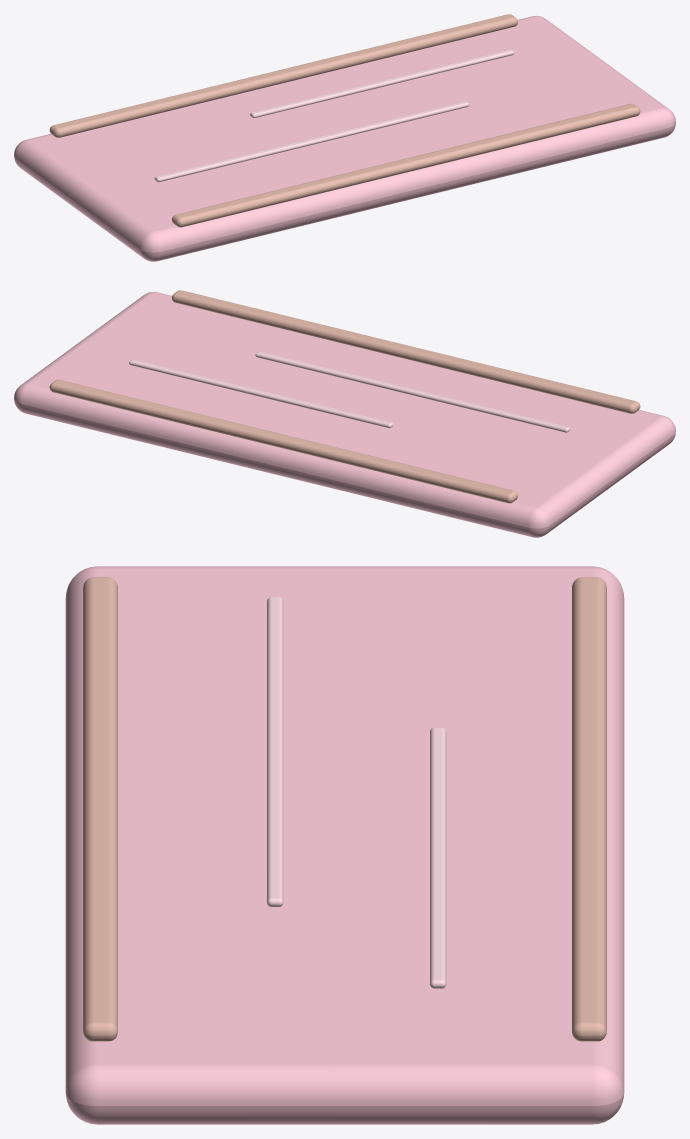
Rendered from 目标图柔粉椭圆地毯.fbx.
3 renders of one model, top to bottom at view 1: azimuth 30°, elevation 25°; view 2: azimuth 150°, elevation 25°; view 3: azimuth 270°, elevation 25°, orthographic. The views are drawn at different scales.
Parts seen in each view (by area): view 1: 目标图柔粉椭圆地毯_低矮圆角主体, 目标图柔粉椭圆地毯_暖粉薄包边前, 目标图柔粉椭圆地毯_暖粉薄包边后, 目标图柔粉椭圆地毯_浅粉织纹一, 目标图柔粉椭圆地毯_浅粉织纹二; view 2: 目标图柔粉椭圆地毯_低矮圆角主体, 目标图柔粉椭圆地毯_暖粉薄包边后, 目标图柔粉椭圆地毯_暖粉薄包边前, 目标图柔粉椭圆地毯_浅粉织纹一, 目标图柔粉椭圆地毯_浅粉织纹二; view 3: 目标图柔粉椭圆地毯_低矮圆角主体, 目标图柔粉椭圆地毯_暖粉薄包边前, 目标图柔粉椭圆地毯_暖粉薄包边后, 目标图柔粉椭圆地毯_浅粉织纹一, 目标图柔粉椭圆地毯_浅粉织纹二.
Part boxes in pixels (x1,y1,x2,y2): 目标图柔粉椭圆地毯_低矮圆角主体: (14,15,675,261); 目标图柔粉椭圆地毯_暖粉薄包边前: (172,103,640,227); 目标图柔粉椭圆地毯_暖粉薄包边后: (49,14,517,137); 目标图柔粉椭圆地毯_浅粉织纹一: (154,101,469,182); 目标图柔粉椭圆地毯_浅粉织纹二: (250,49,514,118); 目标图柔粉椭圆地毯_低矮圆角主体: (14,291,675,537); 目标图柔粉椭圆地毯_暖粉薄包边后: (49,379,517,503); 目标图柔粉椭圆地毯_暖粉薄包边前: (172,290,640,413); 目标图柔粉椭圆地毯_浅粉织纹一: (255,351,570,432); 目标图柔粉椭圆地毯_浅粉织纹二: (129,359,393,428); 目标图柔粉椭圆地毯_低矮圆角主体: (65,566,624,1124); 目标图柔粉椭圆地毯_暖粉薄包边前: (83,577,117,1041); 目标图柔粉椭圆地毯_暖粉薄包边后: (572,577,606,1041); 目标图柔粉椭圆地毯_浅粉织纹一: (267,597,283,906); 目标图柔粉椭圆地毯_浅粉织纹二: (430,727,446,988).
Size of the model in its own units: 106 by 7.55 by 48.
